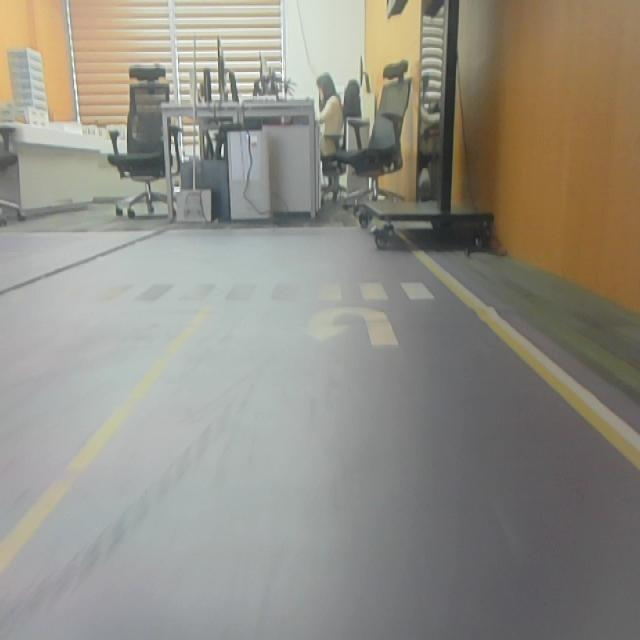left_lane: (0, 306, 215, 576)
right_lane: (396, 229, 640, 472)
